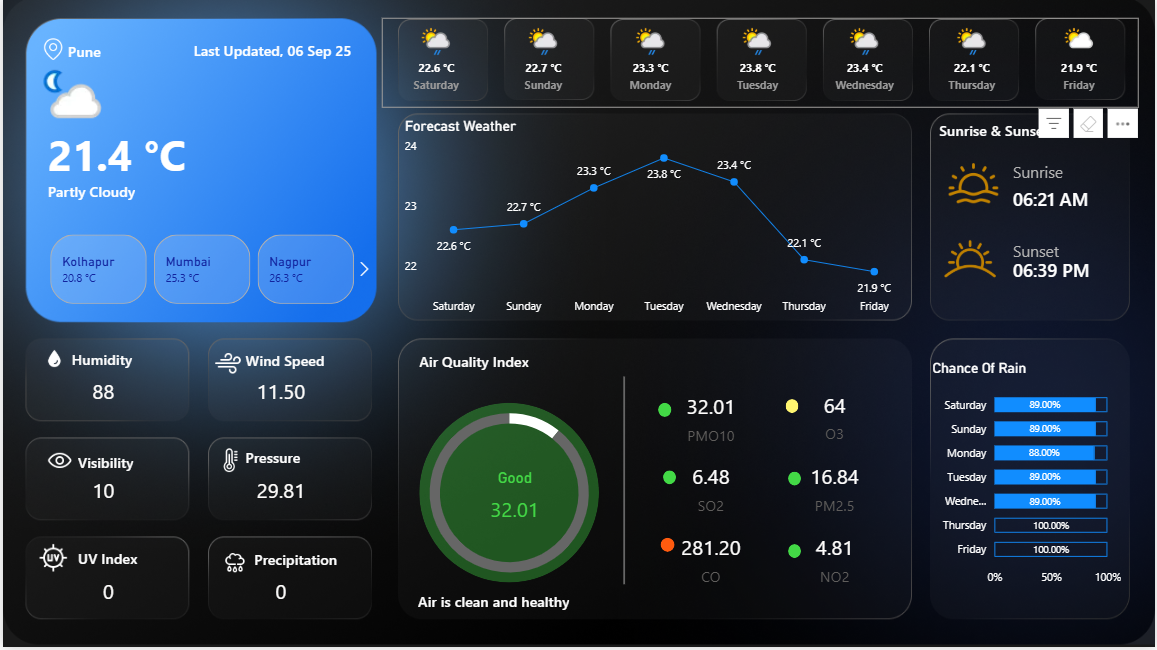

Layout of this report page (visuals, bound fields, positions):
{"tool":"powerbi","page":{"name":"Weather Dashboard","canvas":[1280,720],"ordinal":0},"visuals":[{"type":"shape","box":[462.4,449.1,199.7,199.7],"z":0},{"type":"donutChart","fields":{"Y":["Sum(Current.current.air_quality.pm10)","_Measures.Left_Value_PM10"]},"box":[432.1,433.4,261.5,231.2],"z":1000},{"type":"advancedSlicerVisual","fields":{"Values":["Locations.location.name"]},"box":[27.3,257.1,389.6,87],"z":2000},{"type":"shape","box":[50.6,132.5,228.6,80.5],"z":3000},{"type":"shape","box":[50.6,197.4,366.2,31.2],"z":4000},{"type":"shape","box":[72.7,41.6,183.1,31.2],"z":5000},{"type":"shape","box":[203.9,42.9,183.1,27.3],"z":6000},{"type":"image","box":[27.3,39,55.8,33.8],"z":7000},{"type":"cardVisual","fields":{"Data":["Min(Current.current.condition.icon)"]},"box":[15.6,57.1,115.6,106.5],"z":8000},{"type":"image","box":[42.9,490.9,40.3,44.2],"z":9000},{"type":"shape","box":[83.1,500,116.9,27.3],"z":10000},{"type":"shape","box":[279.2,607.8,116.9,27.3],"z":11000},{"type":"shape","box":[270.1,494.8,116.9,27.3],"z":12000},{"type":"shape","box":[270.1,387,116.9,27.3],"z":13000},{"type":"shape","box":[83.1,606.5,116.9,27.3],"z":14000},{"type":"shape","box":[76.6,385.7,116.9,27.3],"z":15000},{"type":"image","box":[37.7,384.4,39,29.9],"z":16000},{"type":"image","box":[233.8,494.8,39,36.4],"z":17000},{"type":"image","box":[35.1,597.4,42.9,46.8],"z":18000},{"type":"image","box":[233.8,607.8,48.1,36.4],"z":19000},{"type":"image","box":[228.6,384.4,41.6,40.3],"z":20000},{"type":"card","fields":{"Values":["Sum(Current.current.humidity)"]},"box":[72.7,413,79.2,49.4],"z":21000},{"type":"card","fields":{"Values":["Sum(Current.current.wind_kph)"]},"box":[270.1,413,79.2,49.4],"z":22000},{"type":"card","fields":{"Values":["Sum(Current.current.pressure_in)"]},"box":[270.1,522.1,79.2,49.4],"z":23000},{"type":"card","fields":{"Values":["Sum(Current.current.vis_km)"]},"box":[72.7,522.1,79.2,49.4],"z":24000},{"type":"card","fields":{"Values":["Sum(Current.current.precip_in)"]},"box":[270.1,635.1,79.2,49.4],"z":25000},{"type":"card","fields":{"Values":["Sum(Current.current.uv)"]},"box":[77.9,635.1,79.2,49.4],"z":26000},{"type":"advancedSlicerVisual","fields":{"Values":["Forecast_Day.Day_Name"]},"box":[421.3,20.6,841.3,100.5],"z":27000},{"type":"lineChart","title":"Forecast Weather","fields":{"Y":["Sum(Forecast_Day.forecast.forecastday.day.avgtemp_c)"],"Category":["Forecast_Day.Day_Name"]},"box":[442.2,132.3,562.8,227.8],"z":28000},{"type":"shape","box":[1040.2,132.3,199.3,26.8],"z":29000},{"type":"shape","box":[1122.2,201,110.5,40.2],"z":30000},{"type":"shape","box":[1122.2,279.7,98.8,41.9],"z":31000},{"type":"shape","box":[1122.2,172.5,110.5,40.2],"z":32000},{"type":"shape","box":[1122.2,257.9,98.8,41.9],"z":33000},{"type":"image","box":[1028.4,246.2,93.8,85.4],"z":34000},{"type":"image","box":[1040.2,172.5,75.4,65.3],"z":35000},{"type":"hundredPercentStackedBarChart","title":"Chance Of Rain","fields":{"Y":["Sum(Forecast_Day.forecast.forecastday.day.daily_chance_of_rain)","_Measures.Left_Value_Rain"],"Category":["Forecast_Day.Day_Name"]},"box":[1028.5,401.5,219.5,259.1],"z":36000},{"type":"shape","box":[462.2,389.6,199.4,26.3],"z":37000},{"type":"card","fields":{"Values":["Sum(Current.current.air_quality.o3)"]},"box":[884.1,427.2,79.1,71.2],"z":38000},{"type":"card","fields":{"Values":["Sum(Current.current.air_quality.pm2_5)"]},"box":[884.1,506.3,79.1,71.2],"z":39000},{"type":"card","fields":{"Values":["Sum(Current.current.air_quality.pm10)"]},"box":[747.6,429.2,79.1,71.2],"z":40000},{"type":"card","fields":{"Values":["Sum(Current.current.air_quality.no2)"]},"box":[884.4,585.8,79.4,70.7],"z":41000},{"type":"card","fields":{"Values":["Sum(Current.current.air_quality.co)"]},"box":[747.6,585.4,79.1,71.2],"z":42000},{"type":"card","fields":{"Values":["Sum(Current.current.air_quality.so2)"]},"box":[747.6,507.3,79.1,71.2],"z":43000},{"type":"shape","box":[727.8,449,15,15.8],"z":44000},{"type":"shape","box":[871.6,524.8,14.5,15.7],"z":45000},{"type":"shape","box":[869.1,444.3,14.5,15.7],"z":46000},{"type":"shape","box":[733.6,523.5,14.5,15.7],"z":47000},{"type":"shape","box":[731.1,598,15.7,15.7],"z":48000},{"type":"shape","box":[872.8,605.2,14.5,15.7],"z":49000},{"type":"shape","box":[673.8,419.8,33.2,230.8],"z":50000},{"type":"card","fields":{"Values":["Sum(Current.current.air_quality.pm10)"]},"box":[521.7,521.7,93.2,72.6],"z":51000},{"type":"shape","box":[461.2,654.9,444.3,26.6],"z":52000}]}

Visuals, with their boxes on the page's 1280x720 design canvas (x1, y1, x2, y2). These are canvas units, not pixel positions in the 1157x650 screenshot, which may show the page scaled, cropped or inside an application window:
shape: rect(462, 449, 662, 649)
donutChart - Sum(Current.current.air_quality.pm10) x _Measures.Left_Value_PM10: rect(432, 433, 694, 665)
advancedSlicerVisual - Locations.location.name: rect(27, 257, 417, 344)
shape: rect(51, 132, 279, 213)
shape: rect(51, 197, 417, 229)
shape: rect(73, 42, 256, 73)
shape: rect(204, 43, 387, 70)
image: rect(27, 39, 83, 73)
cardVisual - Min(Current.current.condition.icon): rect(16, 57, 131, 164)
image: rect(43, 491, 83, 535)
shape: rect(83, 500, 200, 527)
shape: rect(279, 608, 396, 635)
shape: rect(270, 495, 387, 522)
shape: rect(270, 387, 387, 414)
shape: rect(83, 606, 200, 634)
shape: rect(77, 386, 194, 413)
image: rect(38, 384, 77, 414)
image: rect(234, 495, 273, 531)
image: rect(35, 597, 78, 644)
image: rect(234, 608, 282, 644)
image: rect(229, 384, 270, 425)
card - Sum(Current.current.humidity): rect(73, 413, 152, 462)
card - Sum(Current.current.wind_kph): rect(270, 413, 349, 462)
card - Sum(Current.current.pressure_in): rect(270, 522, 349, 572)
card - Sum(Current.current.vis_km): rect(73, 522, 152, 572)
card - Sum(Current.current.precip_in): rect(270, 635, 349, 684)
card - Sum(Current.current.uv): rect(78, 635, 157, 684)
advancedSlicerVisual - Forecast_Day.Day_Name: rect(421, 21, 1263, 121)
"Forecast Weather" lineChart: rect(442, 132, 1005, 360)
shape: rect(1040, 132, 1240, 159)
shape: rect(1122, 201, 1233, 241)
shape: rect(1122, 280, 1221, 322)
shape: rect(1122, 172, 1233, 213)
shape: rect(1122, 258, 1221, 300)
image: rect(1028, 246, 1122, 332)
image: rect(1040, 172, 1116, 238)
"Chance Of Rain" hundredPercentStackedBarChart: rect(1028, 402, 1248, 661)
shape: rect(462, 390, 662, 416)
card - Sum(Current.current.air_quality.o3): rect(884, 427, 963, 498)
card - Sum(Current.current.air_quality.pm2_5): rect(884, 506, 963, 578)
card - Sum(Current.current.air_quality.pm10): rect(748, 429, 827, 500)
card - Sum(Current.current.air_quality.no2): rect(884, 586, 964, 656)
card - Sum(Current.current.air_quality.co): rect(748, 585, 827, 657)
card - Sum(Current.current.air_quality.so2): rect(748, 507, 827, 578)
shape: rect(728, 449, 743, 465)
shape: rect(872, 525, 886, 540)
shape: rect(869, 444, 884, 460)
shape: rect(734, 524, 748, 539)
shape: rect(731, 598, 747, 614)
shape: rect(873, 605, 887, 621)
shape: rect(674, 420, 707, 651)
card - Sum(Current.current.air_quality.pm10): rect(522, 522, 615, 594)
shape: rect(461, 655, 906, 682)
